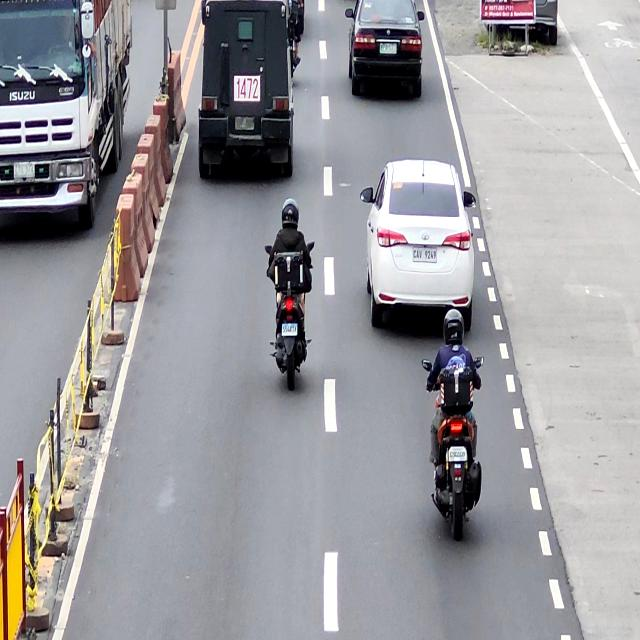Car: (198, 0, 298, 177), (345, 0, 424, 98)
License-Plate: (360, 160, 476, 334), (413, 246, 437, 264), (448, 447, 468, 463), (235, 118, 254, 130), (281, 324, 297, 337), (380, 44, 397, 54)
Motorcycle: (423, 352, 484, 542), (264, 238, 316, 390)
